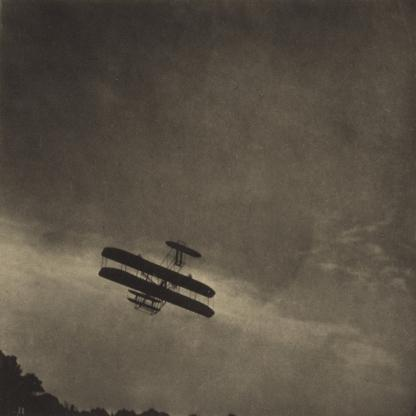CIV_Plane: (90, 234, 217, 327)
